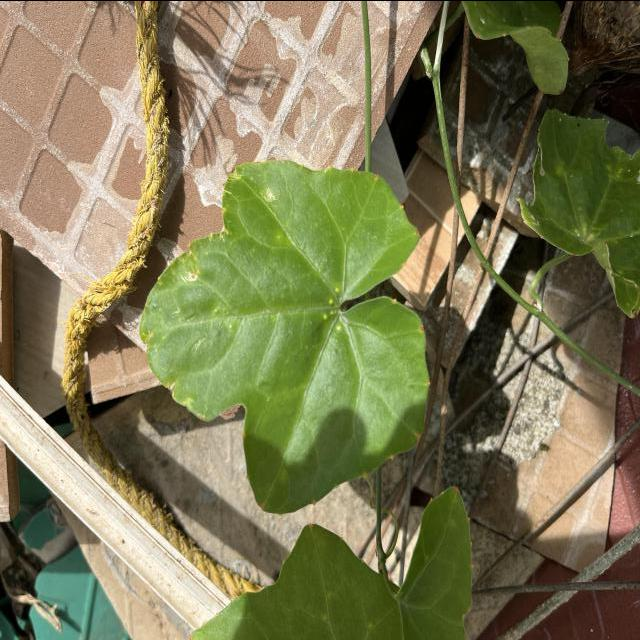Coccinia grandis: (136, 158, 436, 518)
